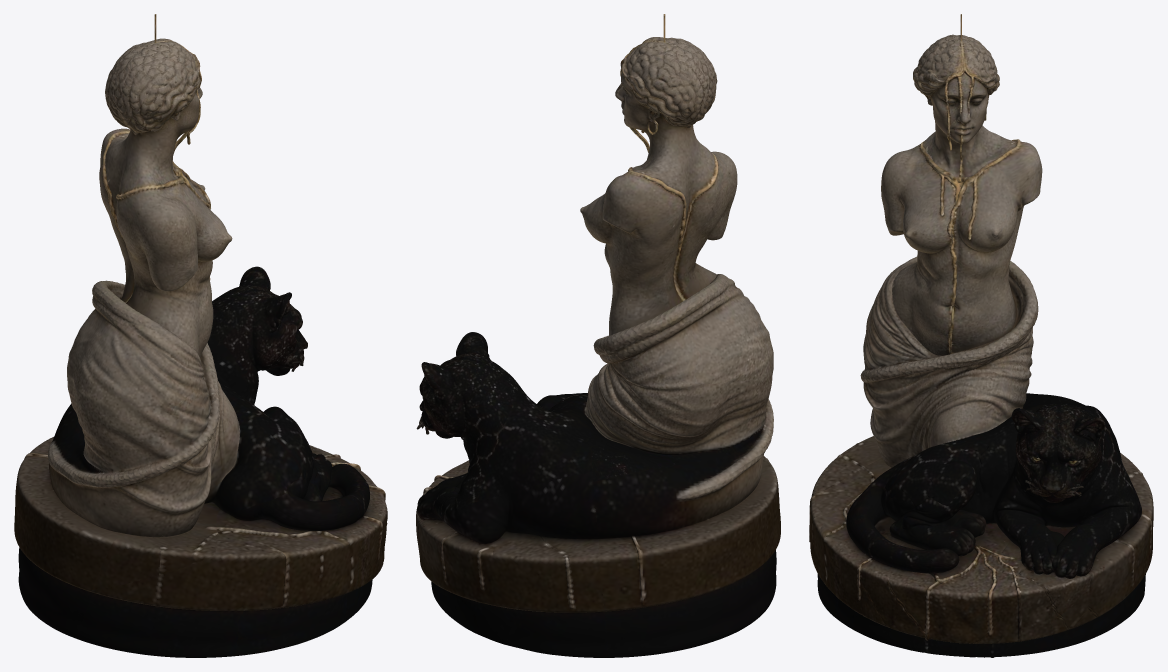
File: Venus_Compressed-v1.glb
3 renders of one model, left to right at view 1: azimuth 30°, elevation 25°; view 2: azimuth 150°, elevation 25°; view 3: azimuth 270°, elevation 25°, orthographic. The views are drawn at different scales.
Visible parts, largest first — view 1: tripo_node_a0f081bb-2f46-4783-a456-52a75e8f6601; view 2: tripo_node_a0f081bb-2f46-4783-a456-52a75e8f6601; view 3: tripo_node_a0f081bb-2f46-4783-a456-52a75e8f6601.
Part boxes in pixels (x1,y1,x2,y2): tripo_node_a0f081bb-2f46-4783-a456-52a75e8f6601: [14, 14, 387, 657]; tripo_node_a0f081bb-2f46-4783-a456-52a75e8f6601: [416, 14, 780, 657]; tripo_node_a0f081bb-2f46-4783-a456-52a75e8f6601: [809, 14, 1153, 657].
Size of the model in its own units: 0.5698 by 0.9822 by 0.5567.
1 material, 1 textured.
